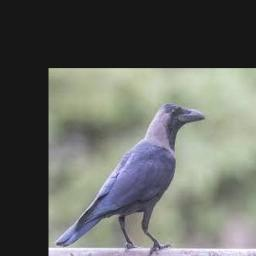Crow: (54, 103, 204, 254)
